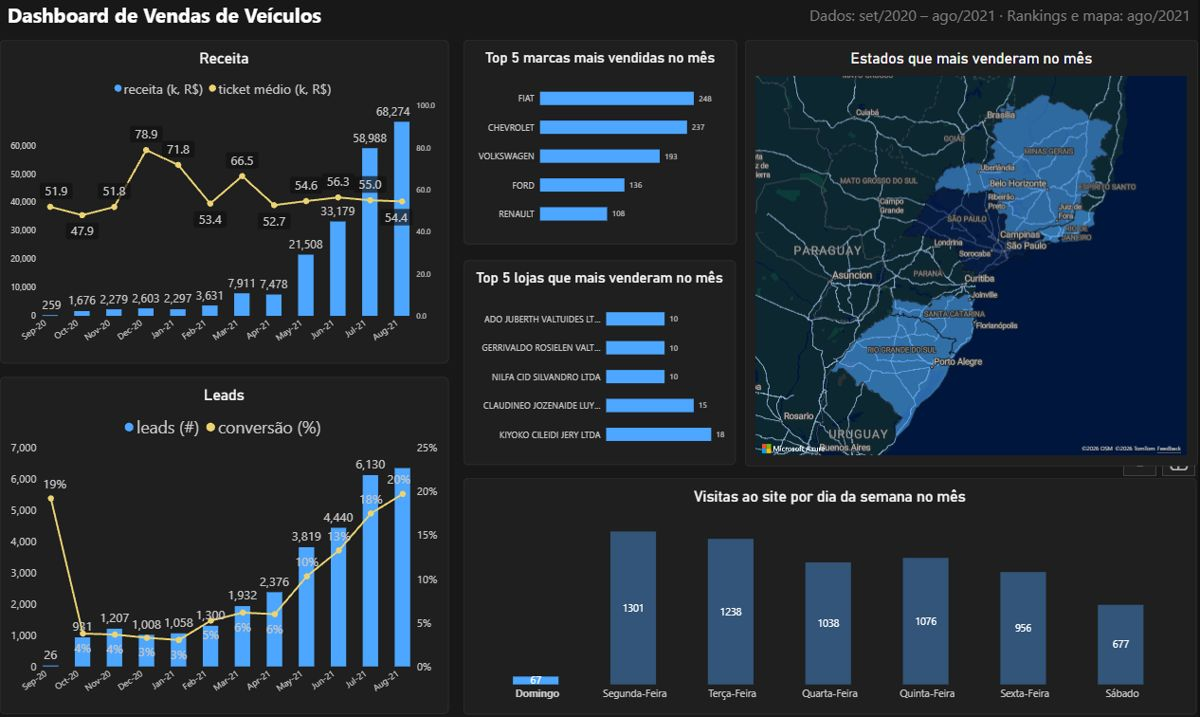

What the dashboard file says about the page in this screenshot:
{"tool":"powerbi","page":{"name":"Page 1","canvas":[1920,1160],"ordinal":0},"visuals":[{"type":"lineClusteredColumnComboChart","title":"Receita","fields":{"Category":["sales vw_monthly_kpis.mês"],"Y":["Sum(sales vw_monthly_kpis.receita (k, R$))"],"Y2":["Sum(sales vw_monthly_kpis.ticket médio (k, R$))"]},"box":[0,73,718.3,518.2],"z":0},{"type":"lineClusteredColumnComboChart","title":"Leads ","fields":{"Category":["sales vw_monthly_kpis.mês"],"Y":["Sum(sales vw_monthly_kpis.leads (#))"],"Y2":["Sum(sales vw_monthly_kpis.conversão (%))"]},"box":[0,612.6,718.3,539.7],"z":1},{"type":"barChart","title":"Top 5 marcas mais vendidas no mês","fields":{"Category":["sales vw_sales_by_brand.marca"],"Y":["Sum(sales vw_sales_by_brand.vendas (#))"]},"box":[743.4,73,437.8,327],"z":2},{"type":"barChart","title":"Top 5 lojas que mais venderam no mês","fields":{"Category":["sales vw_sales_by_store.loja"],"Y":["Sum(sales vw_sales_by_store.vendas (#))"]},"box":[743.4,426.8,436,327],"z":3},{"type":"columnChart","title":"Visitas ao site por dia da semana no mês","fields":{"Category":["sales vw_visits_by_weekday.dia da semana"],"Y":["Sum(sales vw_visits_by_weekday.visitas (#))"]},"box":[743.4,773.4,1174,378.8],"z":4},{"type":"azureMap","title":"Estados que mais venderam  no mês","fields":{"Category":["sales vw_sales_by_state.país","sales vw_sales_by_state.estado"]},"box":[1193.7,73,725.5,682.6],"z":5},{"type":"textbox","box":[0,12.5,526.2,45],"z":6},{"type":"textbox","box":[1287.8,15,630,44.1],"z":7}]}

Visuals, with their boxes in screenshot pixels (x1, y1, x2, y2), scaled from the page's 1920x1160 canvas onto the 1200x717 screenshot:
"Receita" lineClusteredColumnComboChart: [0, 45, 449, 365]
"Leads " lineClusteredColumnComboChart: [0, 379, 449, 712]
"Top 5 marcas mais vendidas no mês" barChart: [465, 45, 738, 247]
"Top 5 lojas que mais venderam no mês" barChart: [465, 264, 737, 466]
"Visitas ao site por dia da semana no mês" columnChart: [465, 478, 1198, 712]
"Estados que mais venderam  no mês" azureMap: [746, 45, 1199, 467]
textbox: [0, 8, 329, 36]
textbox: [805, 9, 1199, 37]
